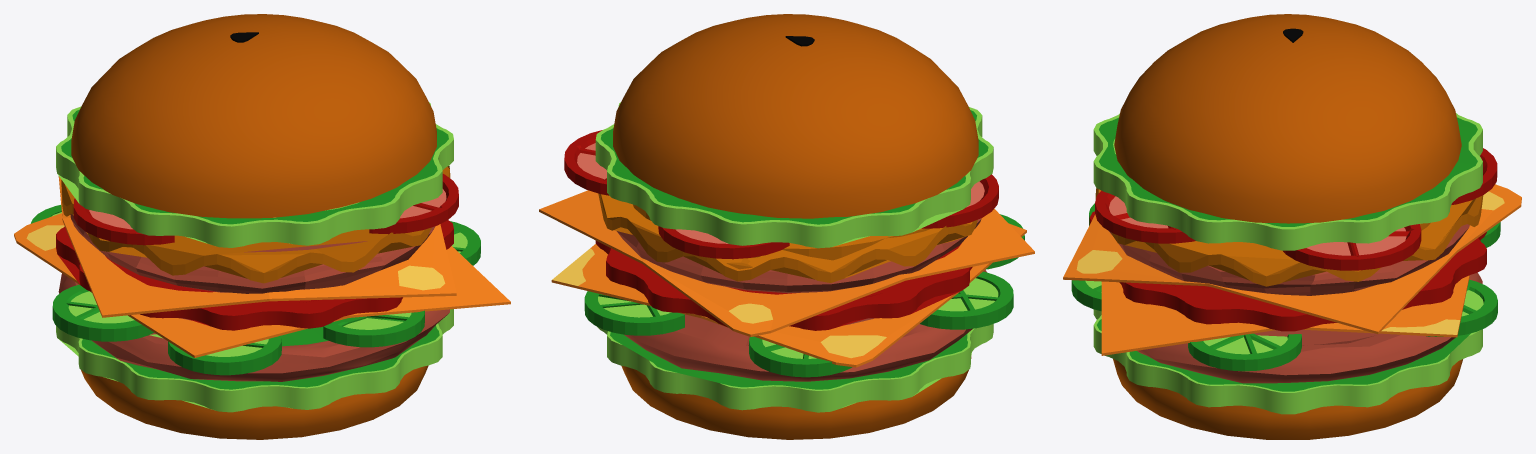
The model's file is Level 1, new Burger.fbx.
The picture shows the model from 3 angles, left to right: view 1: azimuth 30°, elevation 25°; view 2: azimuth 150°, elevation 25°; view 3: azimuth 270°, elevation 25°; orthographic projection.
Visible parts, largest first — view 1: Upper Bun, Cabbage, Cabbage 2, Cheese 1, Lower bun, Mustard, Cheese 2, Meat 2, Ketchup, Meat 1, Cucumber 1, Cucumber 2 (+8 smaller); view 2: Upper Bun, Cabbage, Cheese 1, Cabbage 2, Mustard, Lower bun, Meat 2, Ketchup, Cheese 2, Meat 1, Cucumber 1, Cucumber 5 (+9 smaller); view 3: Upper Bun, Cabbage, Cabbage 2, Cheese 1, Lower bun, Meat 2, Cheese 2, Mustard, Ketchup, Meat 1, Cucumber 4, Tomato 3 (+9 smaller).
Boxes of the visible parts, x1,y1,x2,y2 form: Upper Bun: (71,14,436,218); Cabbage: (56,102,453,247); Cabbage 2: (56,309,453,412); Cheese 1: (58,176,456,317); Lower bun: (81,365,428,439); Mustard: (61,166,450,283); Cheese 2: (14,213,510,357); Meat 2: (58,273,449,381); Ketchup: (56,220,453,330); Meat 1: (70,214,435,293); Cucumber 1: (52,284,153,341); Cucumber 2: (168,335,281,375); Upper Bun: (613,14,978,218); Cabbage: (595,102,993,248); Cheese 1: (539,190,1034,336); Cabbage 2: (597,324,993,412); Mustard: (598,193,977,282); Lower bun: (621,356,971,439); Meat 2: (624,269,986,381); Ketchup: (595,241,972,330); Cheese 2: (551,223,1026,367); Meat 1: (616,218,981,293); Cucumber 1: (920,271,1013,329); Cucumber 5: (584,291,684,335); Upper Bun: (1114,14,1461,223); Cabbage: (1093,113,1482,250); Cabbage 2: (1093,309,1482,414); Cheese 1: (1063,184,1521,334); Lower bun: (1113,359,1462,439); Meat 2: (1137,272,1482,383); Cheese 2: (1101,275,1469,355); Mustard: (1095,188,1483,286); Ketchup: (1089,211,1486,331); Meat 1: (1109,224,1469,295); Cucumber 4: (1188,333,1301,371); Tomato 3: (1283,224,1421,270).
Size of the model in its own units: 1471 by 1127 by 1419.
